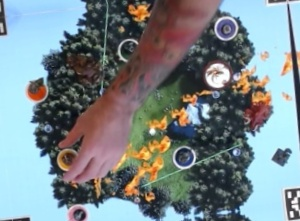blue: (170, 141, 200, 169)
green: (115, 34, 144, 64)
orange: (23, 75, 52, 105)
pink: (65, 200, 92, 221)
violet: (211, 13, 240, 41)
yellow: (55, 144, 79, 171)
